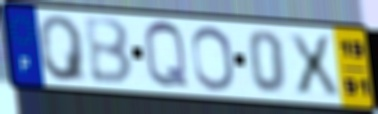0: (245, 28, 290, 97)
B: (82, 17, 136, 88)
O: (189, 24, 238, 93)
Q: (35, 14, 90, 83), (141, 19, 192, 92)
X: (285, 31, 343, 97)
